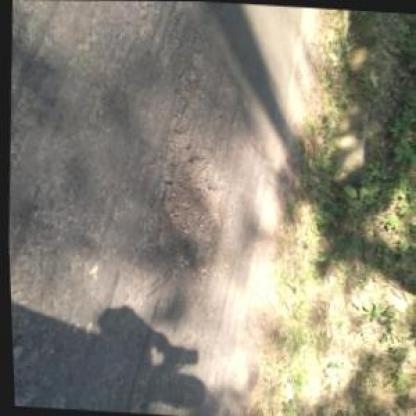pothole: (146, 122, 228, 252)
